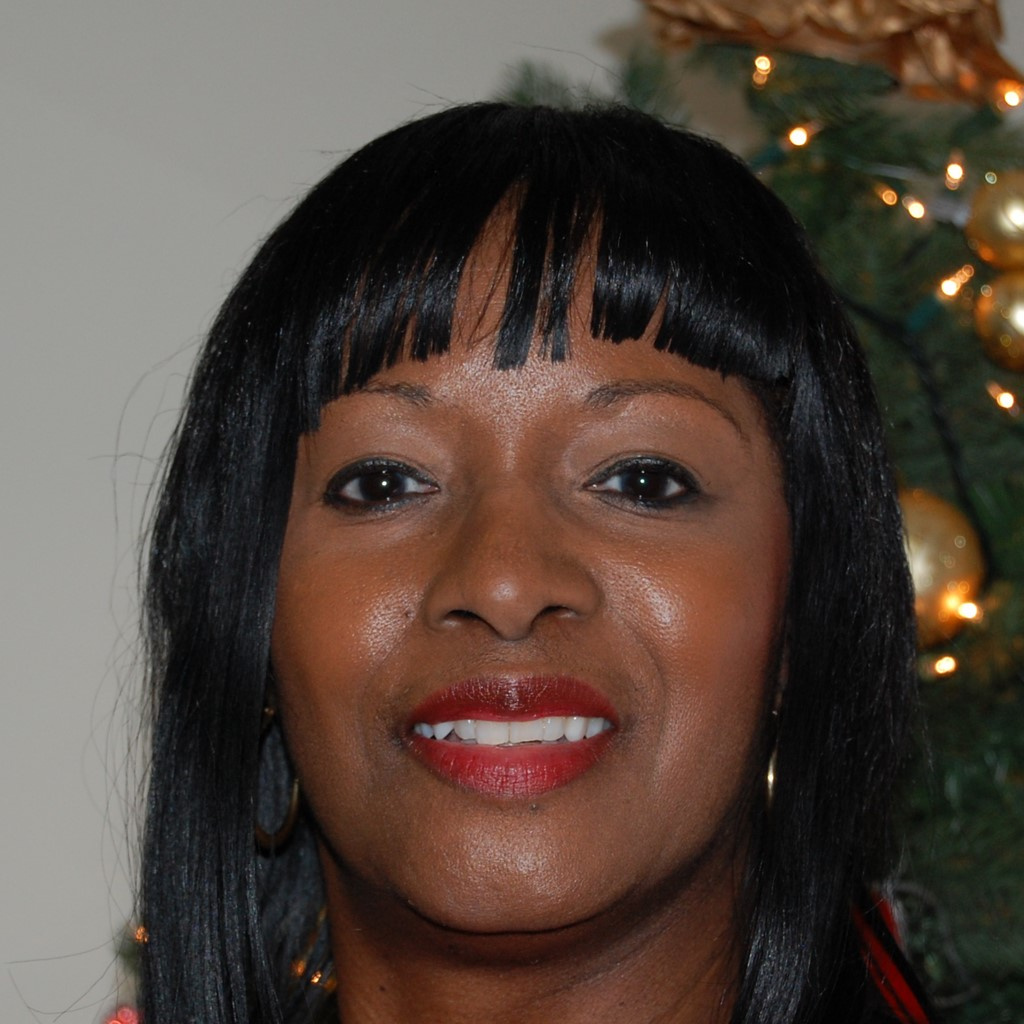sin_mascara: (236, 153, 844, 935)
